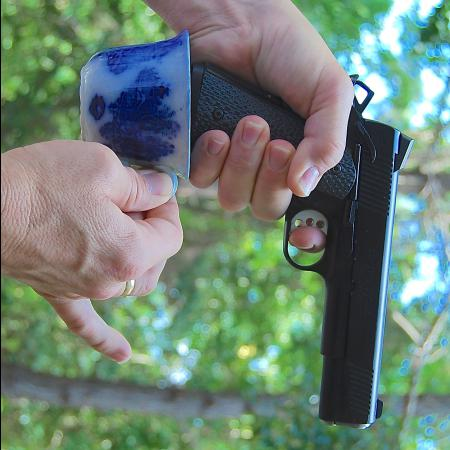Pistol: (191, 63, 415, 431)
